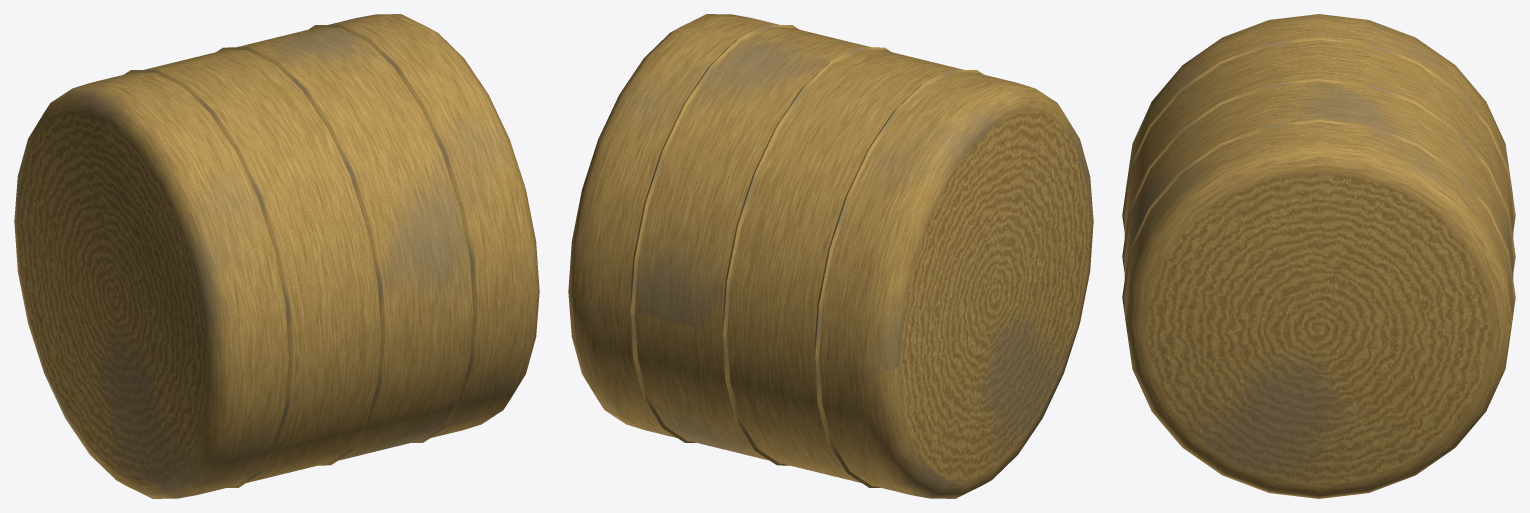
Rendered from hay_bale.glb.
3 renders of one model, left to right at view 1: azimuth 30°, elevation 25°; view 2: azimuth 150°, elevation 25°; view 3: azimuth 270°, elevation 25°, orthographic. The views are drawn at different scales.
Parts seen in each view (by area): view 1: hay_bale; view 2: hay_bale; view 3: hay_bale.
Boxes of the visible parts, box(x1,y1,x2,y2) form: hay_bale: box(14, 14, 539, 498); hay_bale: box(568, 14, 1093, 498); hay_bale: box(1122, 14, 1515, 498).
Bounding box in the file's own units: 1.6 × 1.82 × 1.82.
3 materials, 3 textured.
